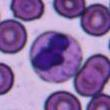N: (29, 31, 82, 83)
